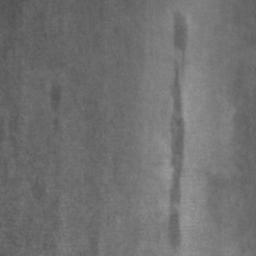Inclusion: (169, 70, 186, 247), (174, 10, 188, 50)
